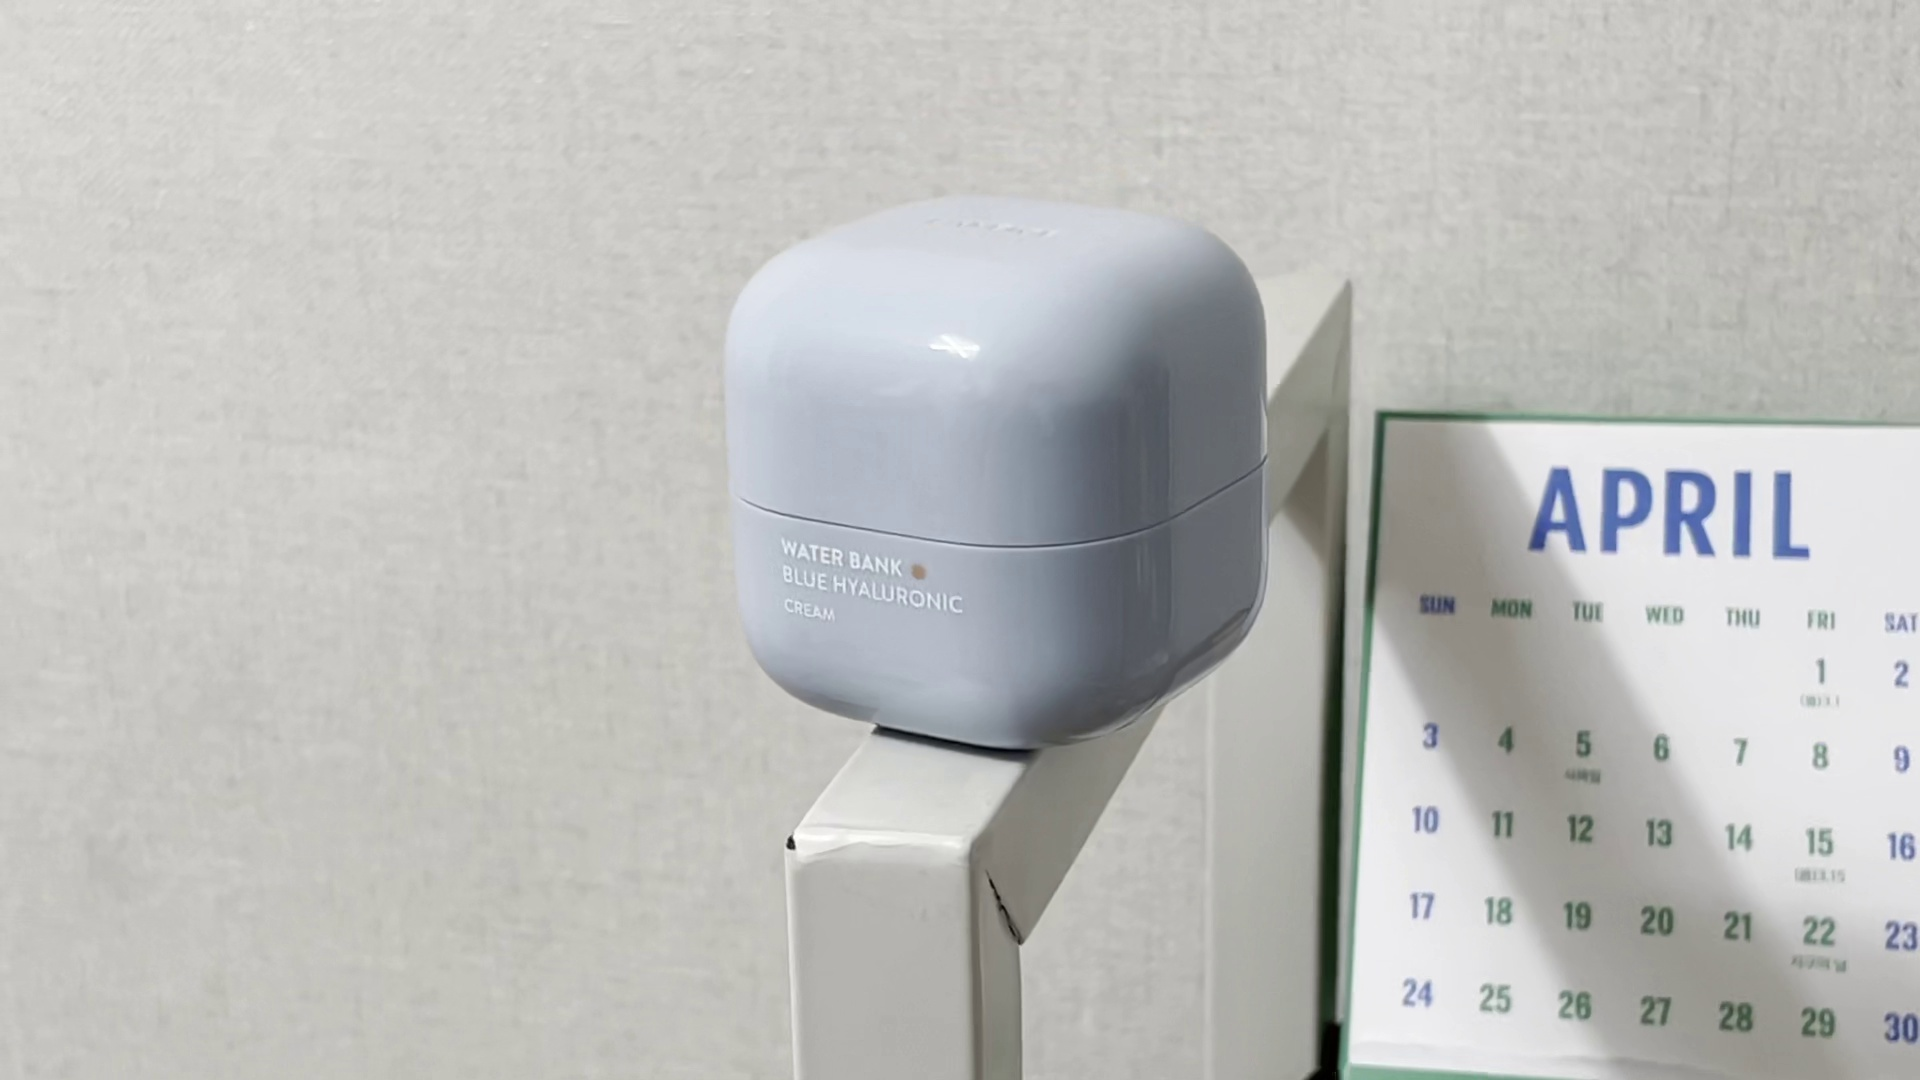cream: (723, 190, 1275, 745)
